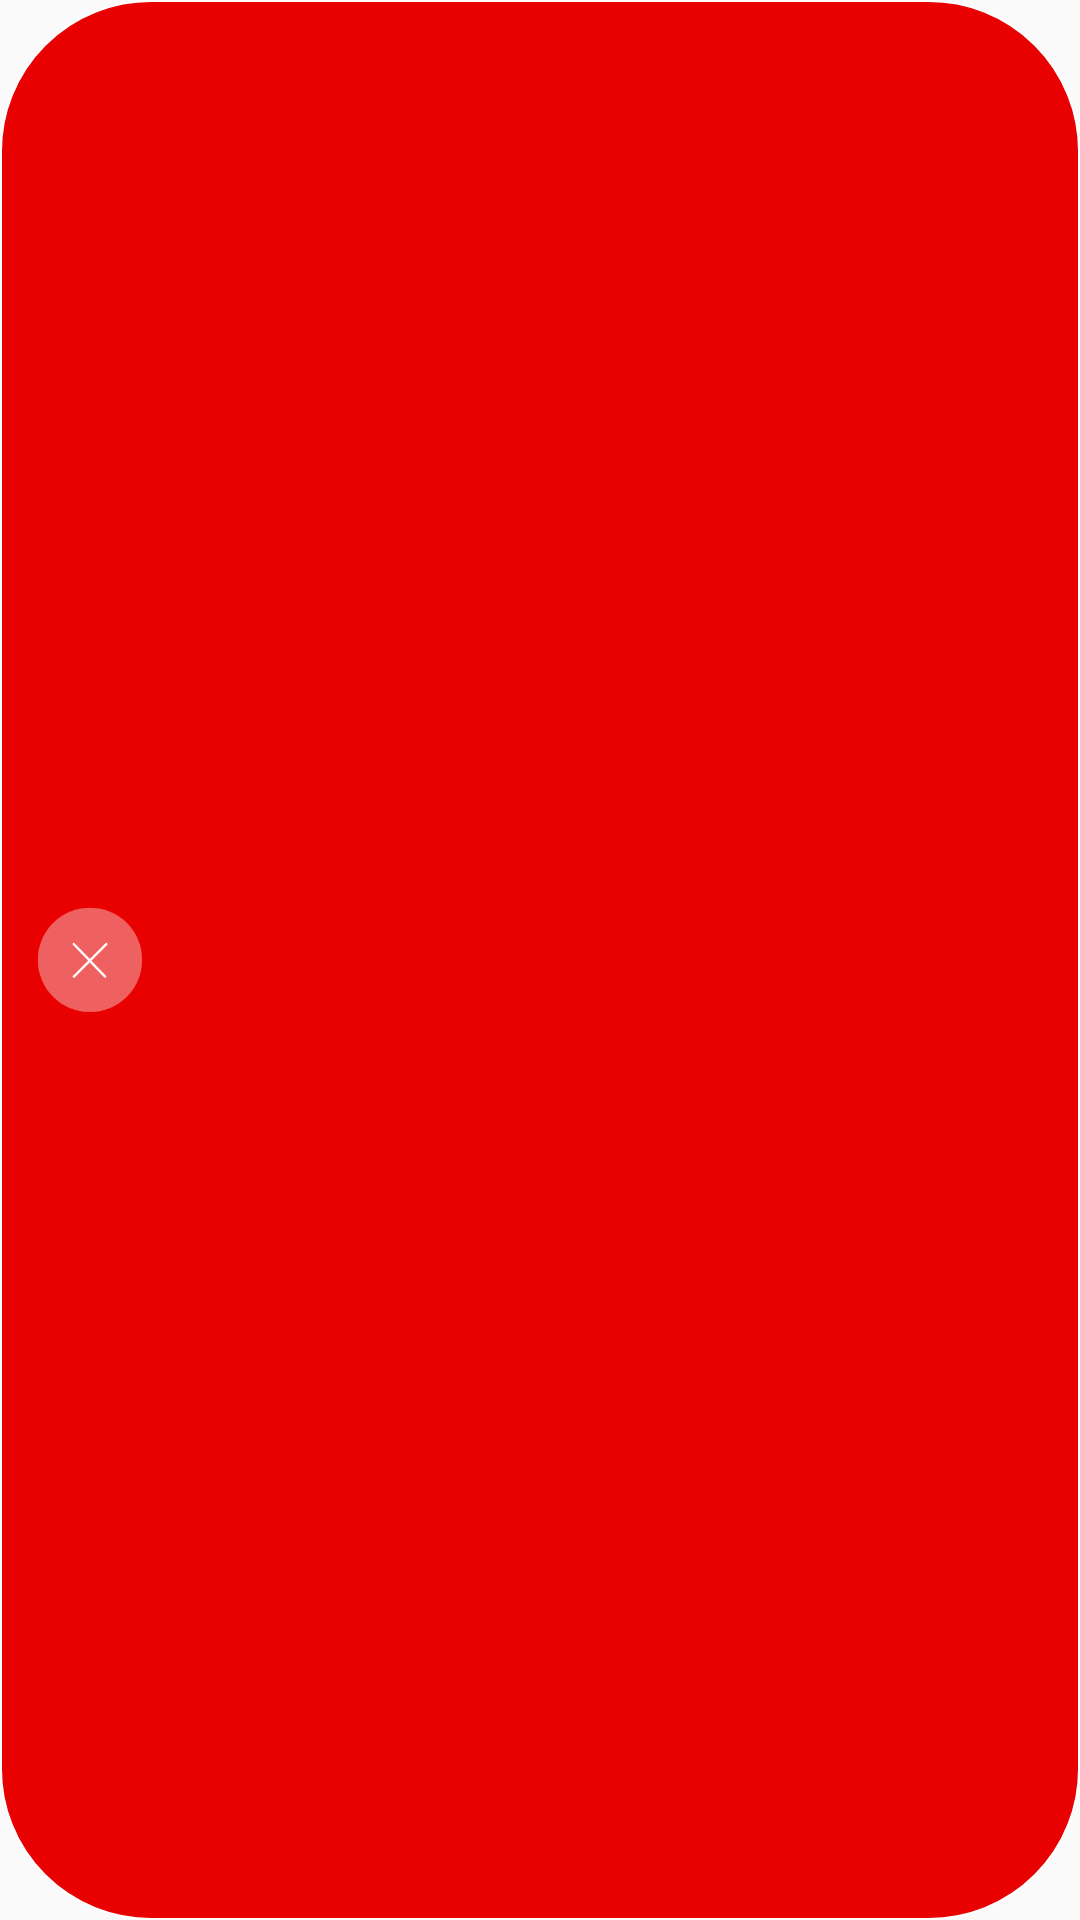

Screen size 1080w x 1920h. Icon name, then its box in pixels as [x1,y1,x2,y2]:
ava error: [38,908,142,1012]
